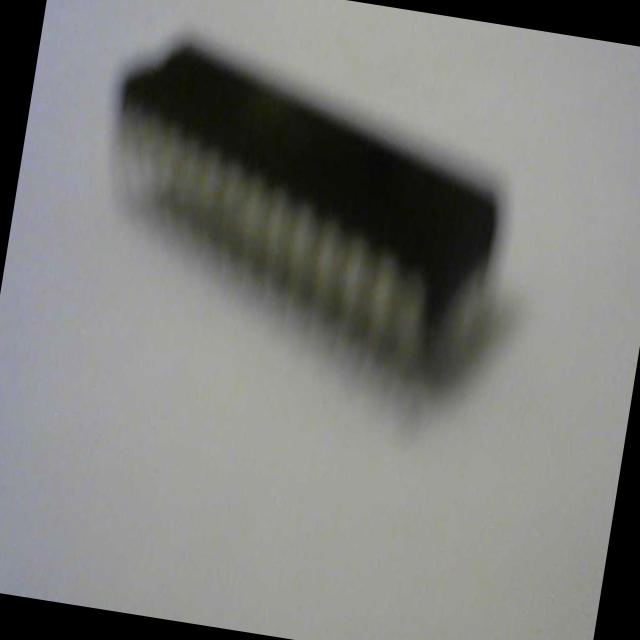atmega: (76, 20, 532, 405)
